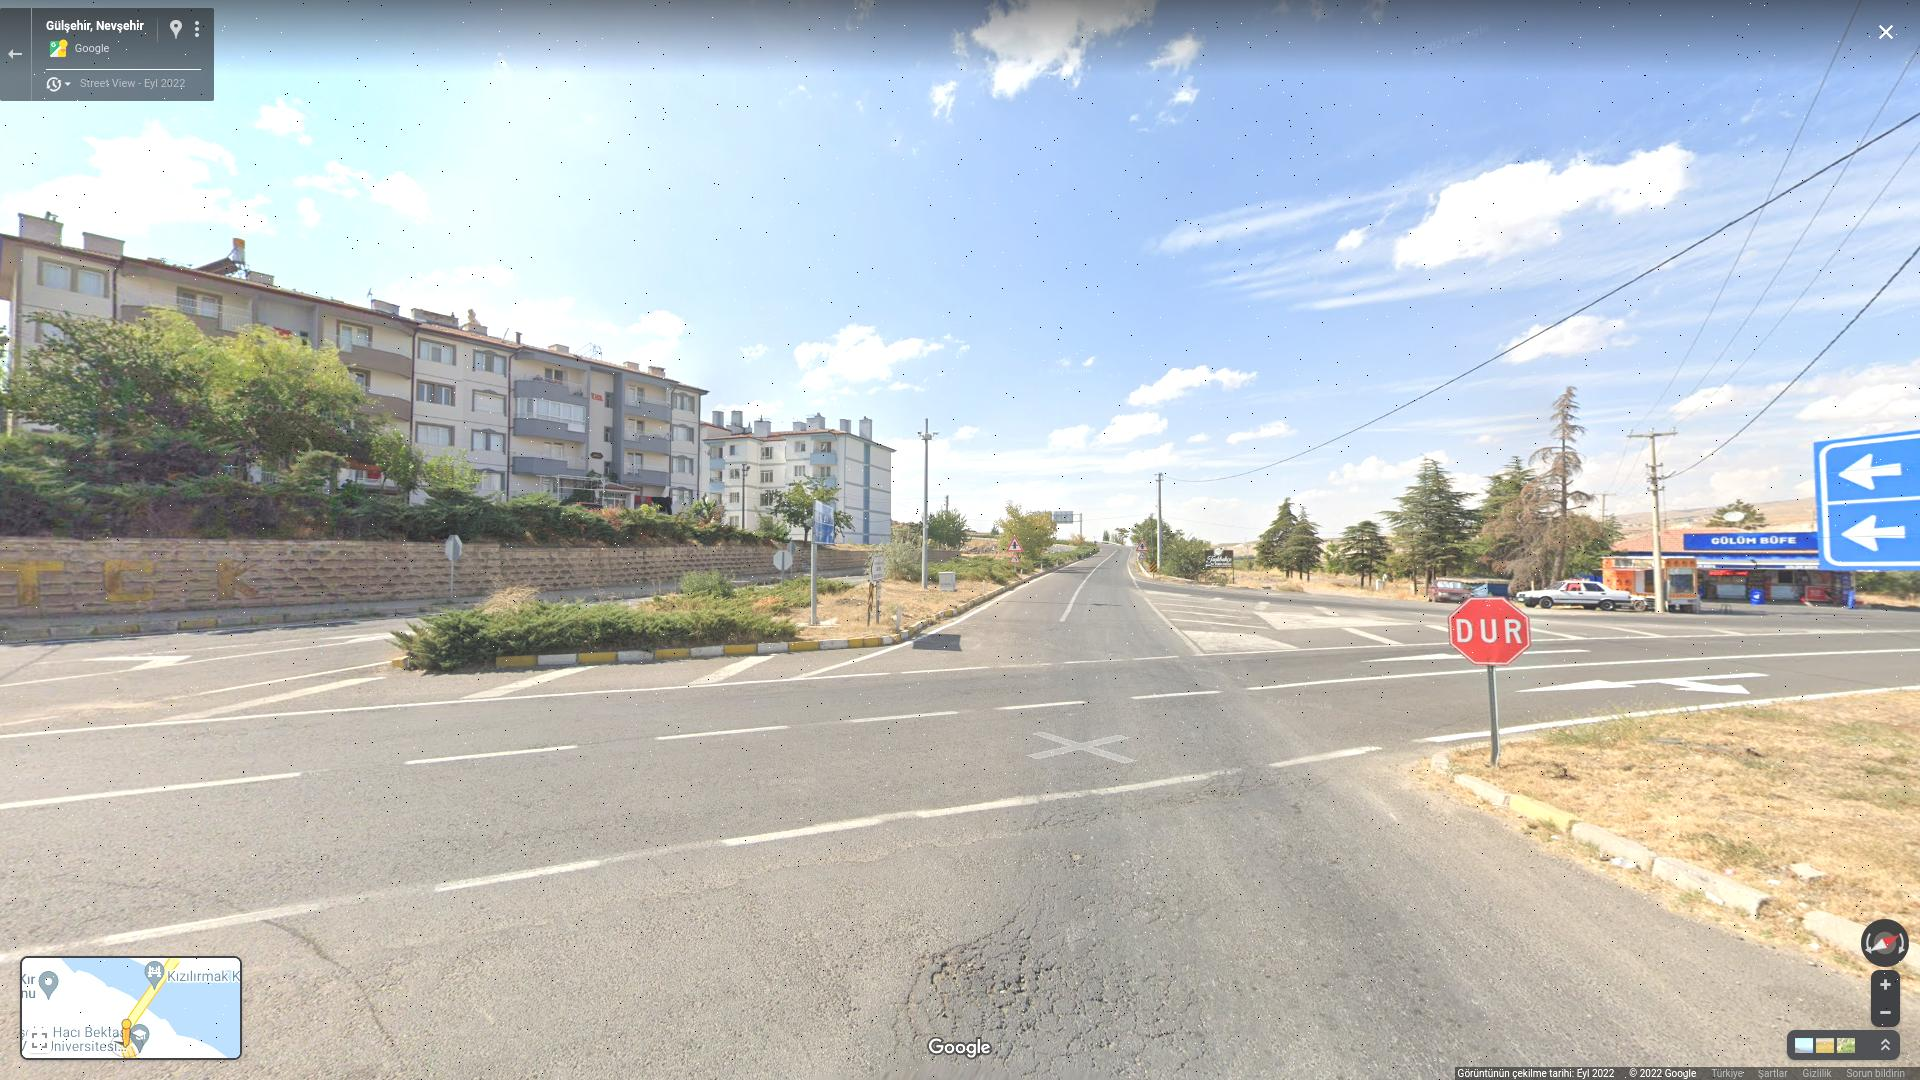stop: (1451, 595, 1531, 665)
